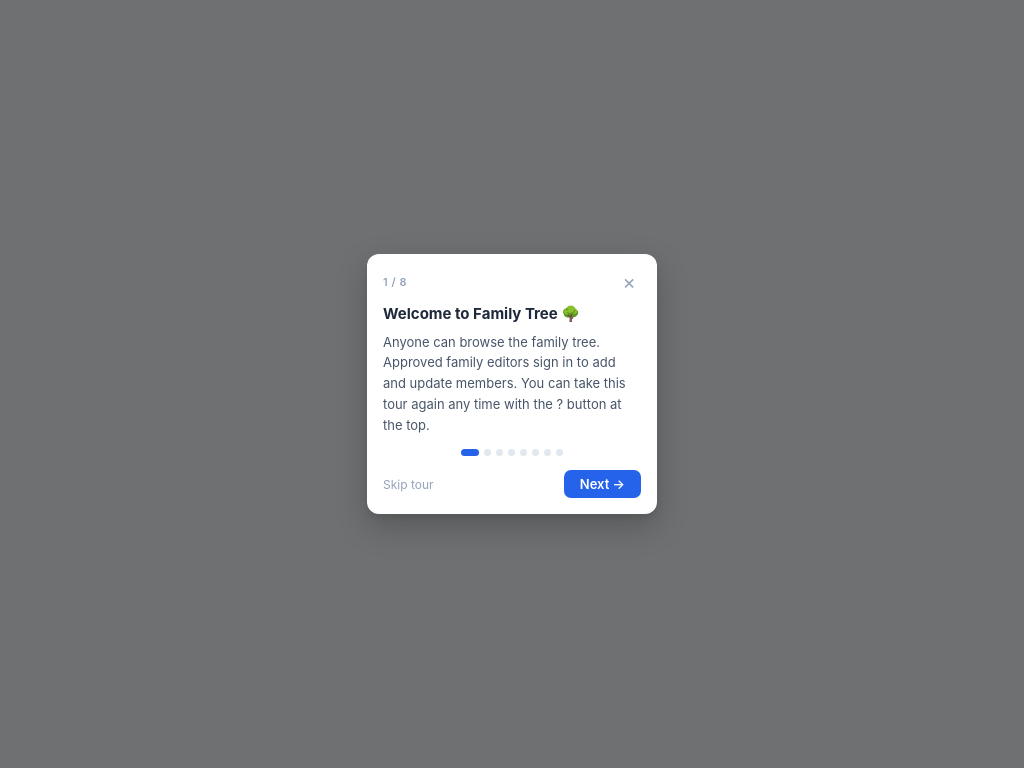
Test: feature tour › shows a demo clip only on steps that have one
This screenshot has width=1024, height=768.
Click the button "Next →" at (602, 484), box [564,470,641,498]
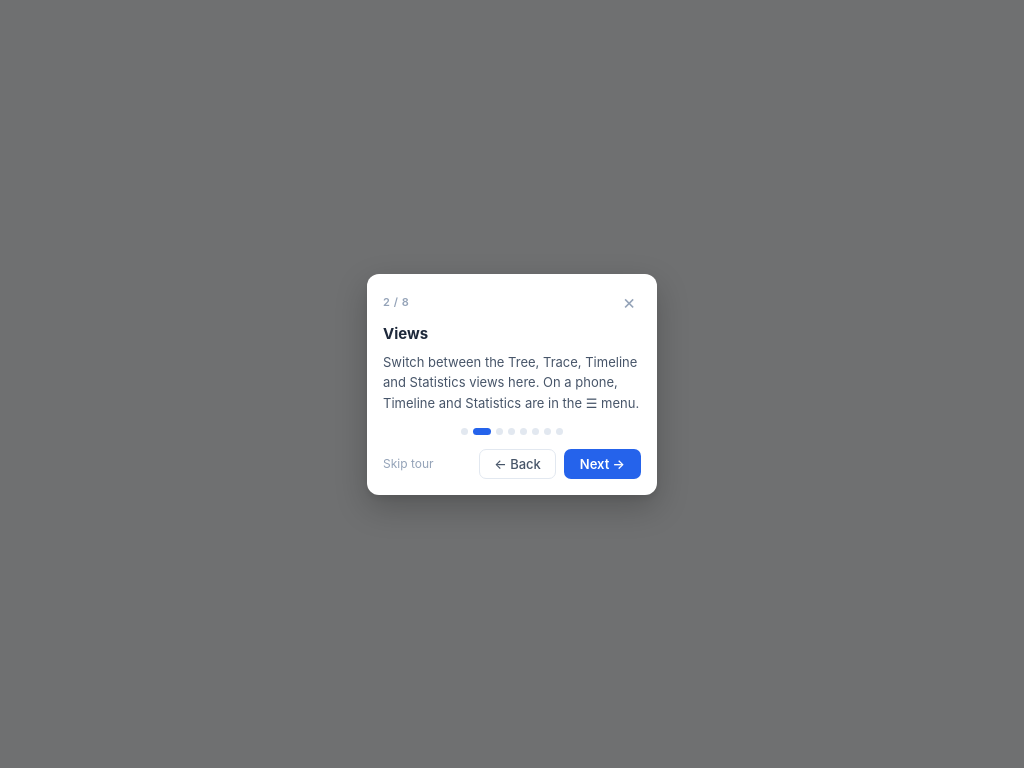
Click the button "Next →" at (602, 463), box [564,448,641,478]
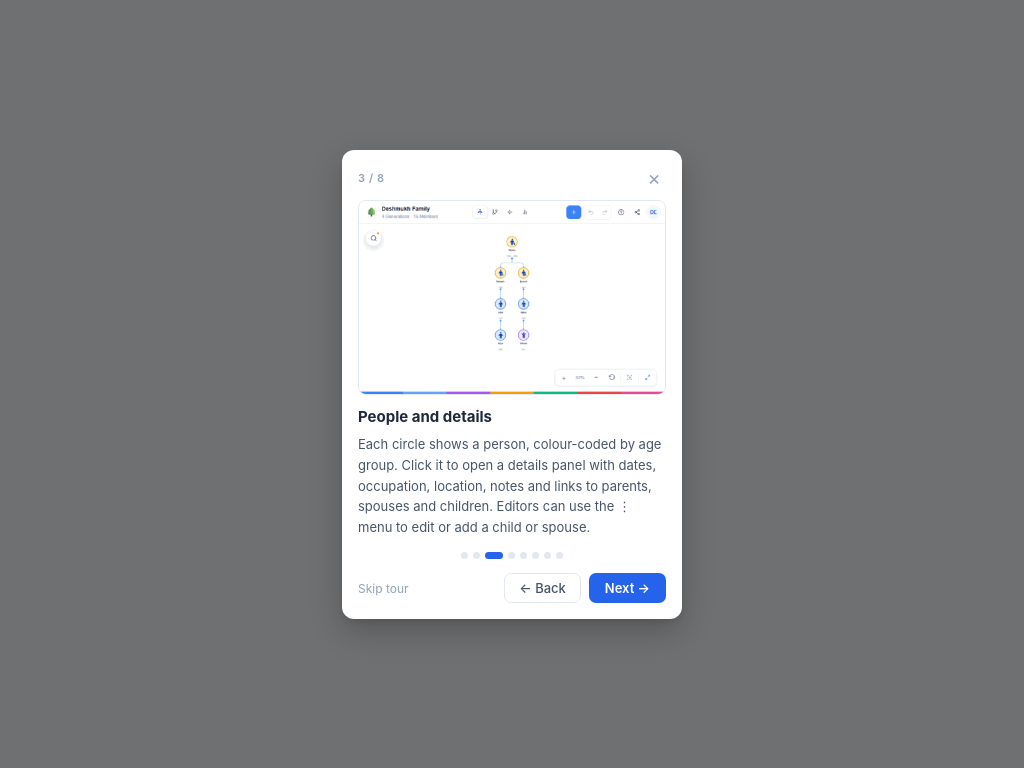
expect the heading "People and details" is shown: met, box [358,406,492,425]
